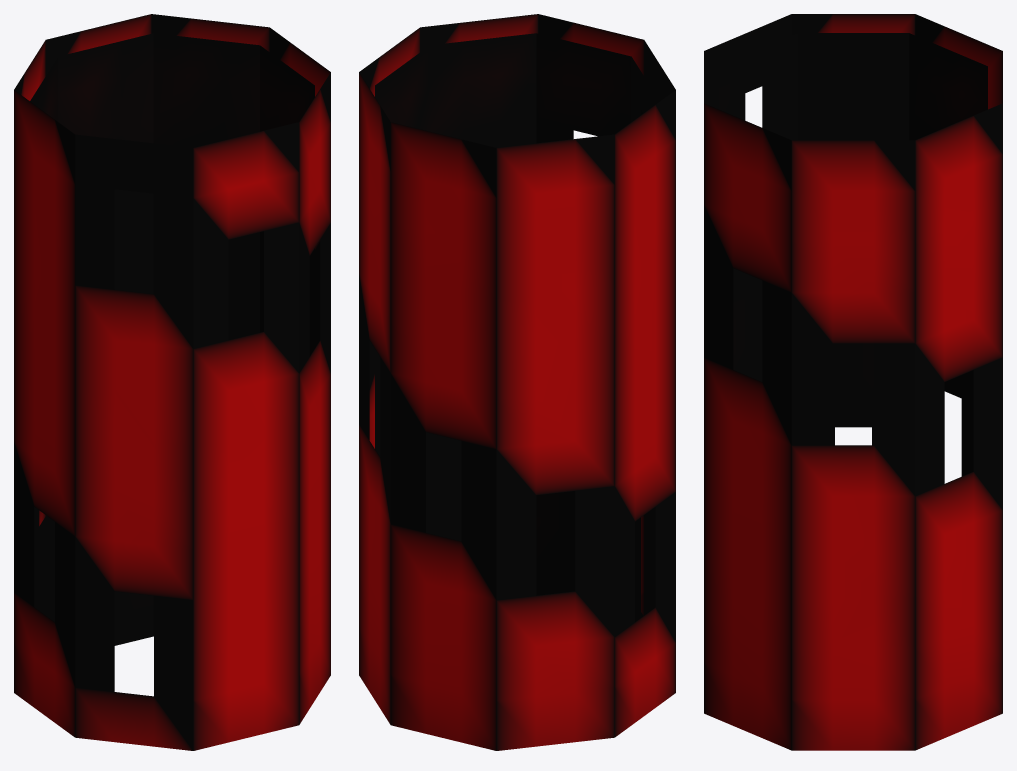
The model's file is TowerUpperBrickWall_export.obj.
3 renders of one model, left to right at view 1: azimuth 30°, elevation 25°; view 2: azimuth 150°, elevation 25°; view 3: azimuth 270°, elevation 25°, orthographic.
Parts seen in each view (by area): view 1: TowerUpperBrickWall; view 2: TowerUpperBrickWall; view 3: TowerUpperBrickWall.
Part boxes in pixels (x1,y1,x2,y2): TowerUpperBrickWall: (14,14,330,750); TowerUpperBrickWall: (359,14,675,750); TowerUpperBrickWall: (704,14,1002,750).
Bounding box in the file's own units: 5.32 × 12.25 × 5.32.
